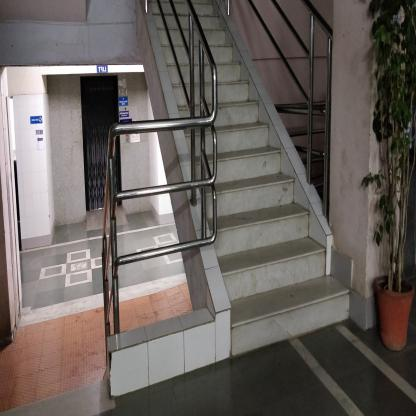stairs: (242, 196, 304, 361)
